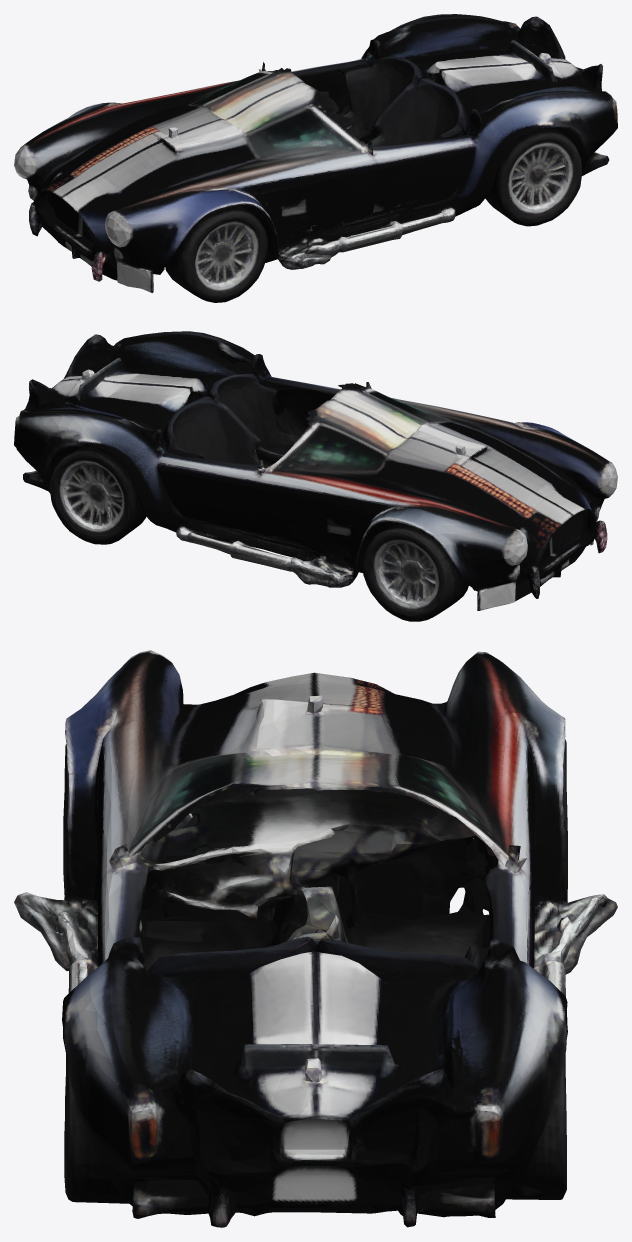
The model's file is segar-cobra.glb.
The picture shows the model from 3 angles, top to bottom: view 1: azimuth 30°, elevation 25°; view 2: azimuth 150°, elevation 25°; view 3: azimuth 270°, elevation 25°; orthographic projection. The views are drawn at different scales.
Parts seen in each view (by area): view 1: world; view 2: world; view 3: world.
Part boxes in pixels (x1,y1,x2,y2): world: (14,14,617,302); world: (14,331,617,621); world: (14,650,617,1227).
Bounding box in the file's own units: 0.9992 × 0.2576 × 0.5496.
1 material, 1 textured.
